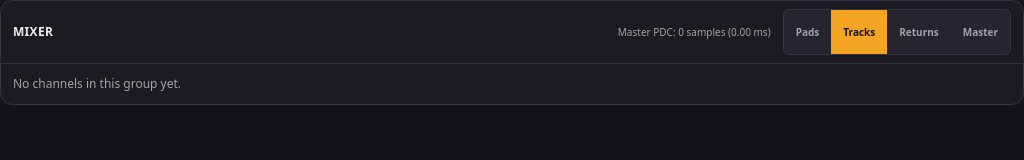
Scenario: the Pads tab with nothing to show › still says what is empty and what to do, for a drum program with no pads
Click the radio button labelled "Pads".
click(808, 32)  # box 784,10 -> 831,54
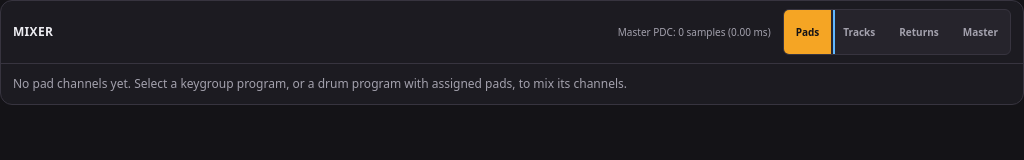
Check: the text "Select a keygroup program" is shown, box 13,75 -> 627,92
